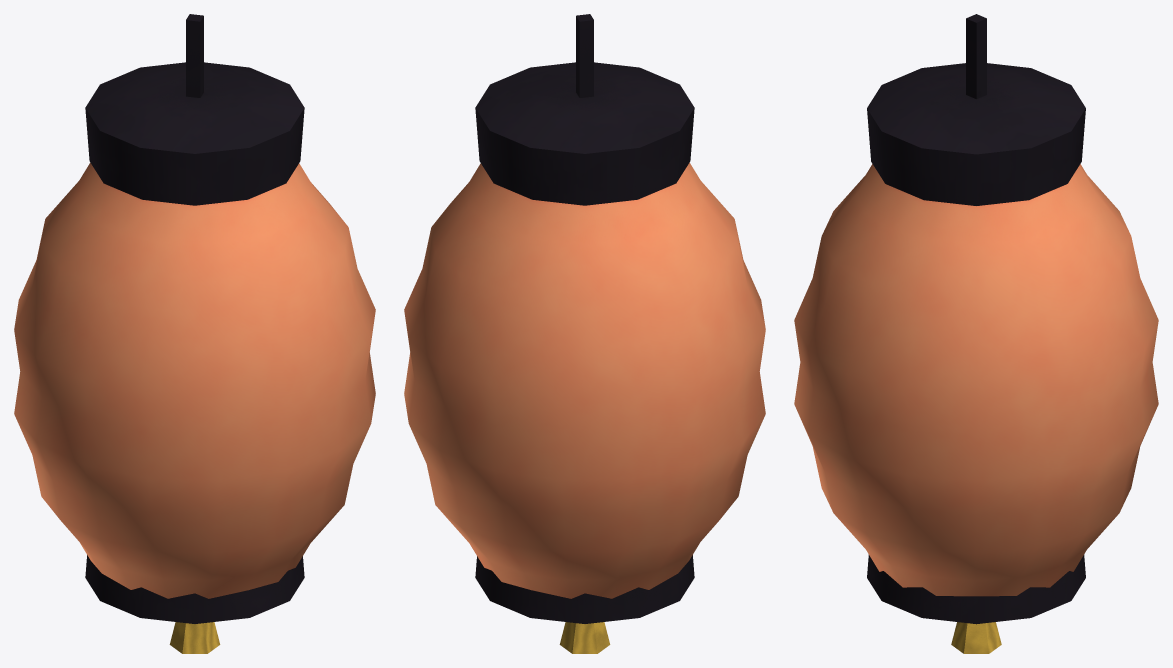
The model's file is paper_lantern_red.fbx.
3 views of the same model, side by side, from view 1: azimuth 30°, elevation 25°; view 2: azimuth 150°, elevation 25°; view 3: azimuth 270°, elevation 25° (orthographic).
Visible parts, largest first — view 1: paper_lantern_red; view 2: paper_lantern_red; view 3: paper_lantern_red.
Part boxes in pixels (box(x1,y1,x2,y2)): paper_lantern_red: box(14, 14, 375, 653); paper_lantern_red: box(404, 14, 765, 653); paper_lantern_red: box(794, 14, 1158, 653).
Size of the model in its own units: 173 by 328 by 173.
Materials: 1 (1 with a texture image).
